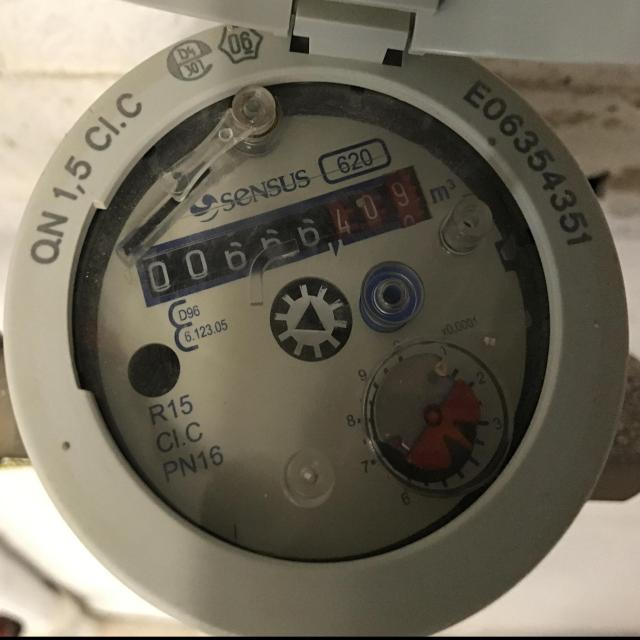gaz_meter: (9, 14, 624, 638)
indication: (132, 162, 434, 308)
